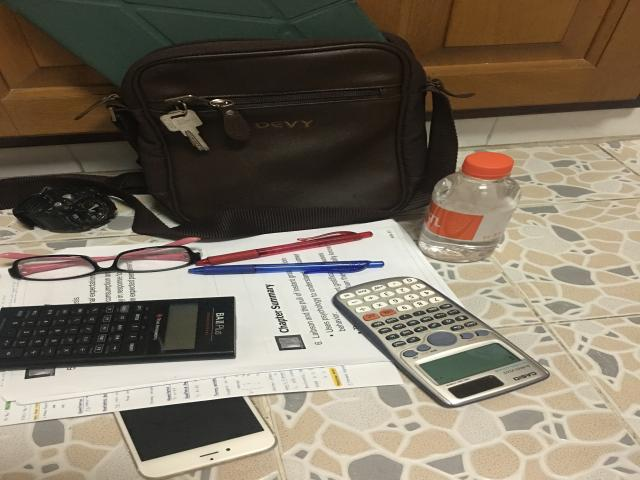Glasses: (0, 237, 200, 280)
Keys: (160, 96, 210, 151)
Mobile phone: (115, 397, 275, 478)
Pen: (195, 232, 372, 266), (188, 261, 385, 275)
Watch: (12, 187, 117, 232)
bottle: (418, 152, 520, 262)
paper: (0, 219, 522, 425)
